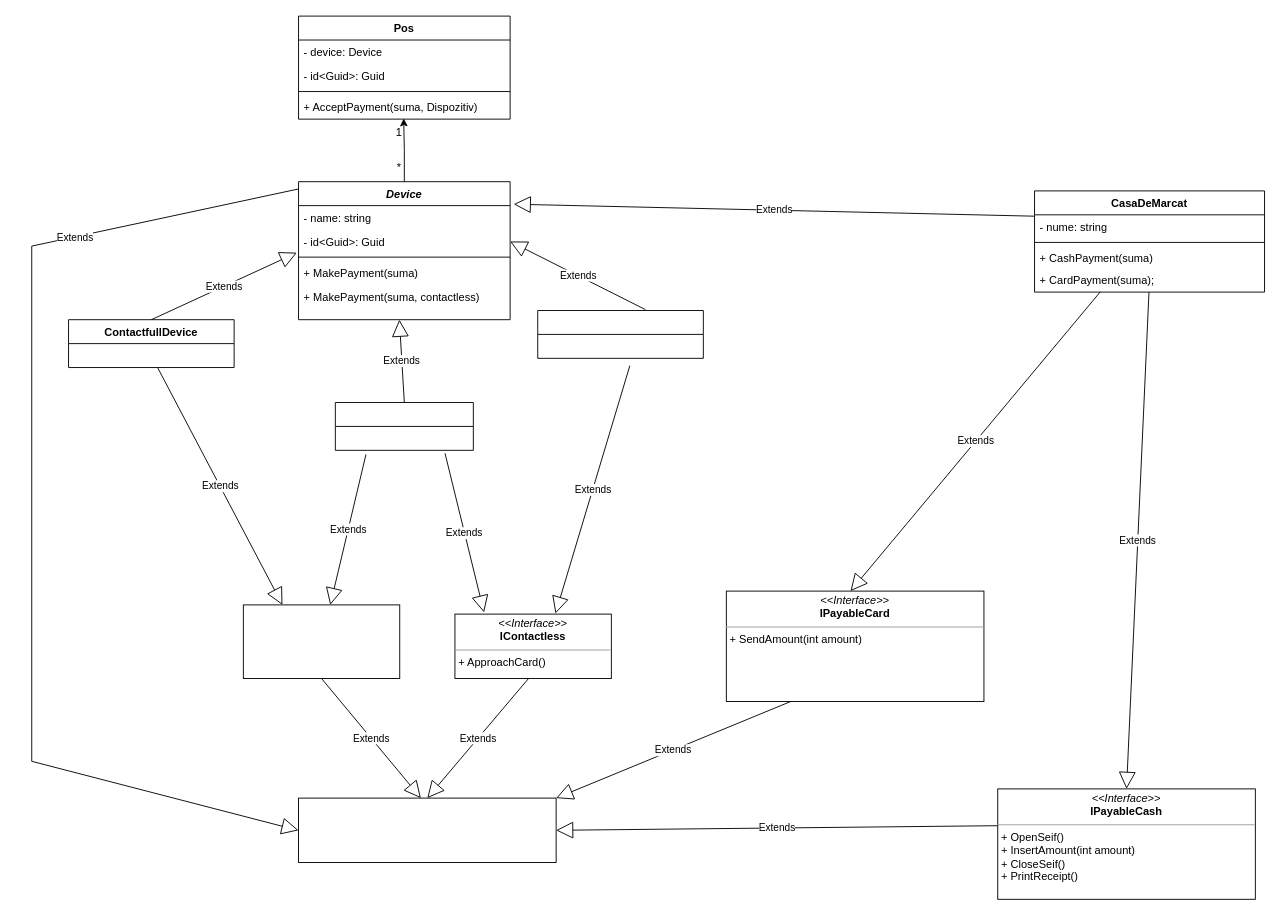
This 1281x915 diagram has some shape labels left out. The centre of each missing label's shape, as x and y in pixels:
<<Interface>> IContactfull + InsertCard: () + RemoveCard: (): point (321, 641)
<<Interface>> IPayable + MakePayment: (int amount): point (427, 829)
ContactlessDevice: point (403, 426)
PhoneDevice: point (620, 334)
